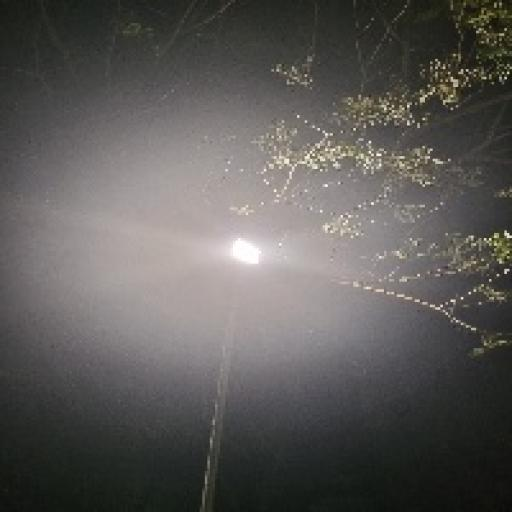Working: (216, 234, 270, 274)
